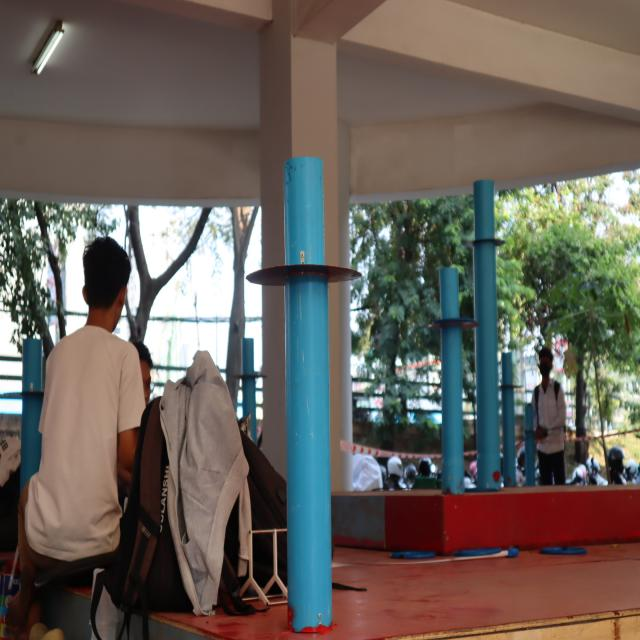pole: (245, 152, 363, 354), (420, 260, 476, 372), (460, 179, 502, 274), (232, 333, 267, 388), (498, 352, 520, 404), (522, 404, 538, 442)
